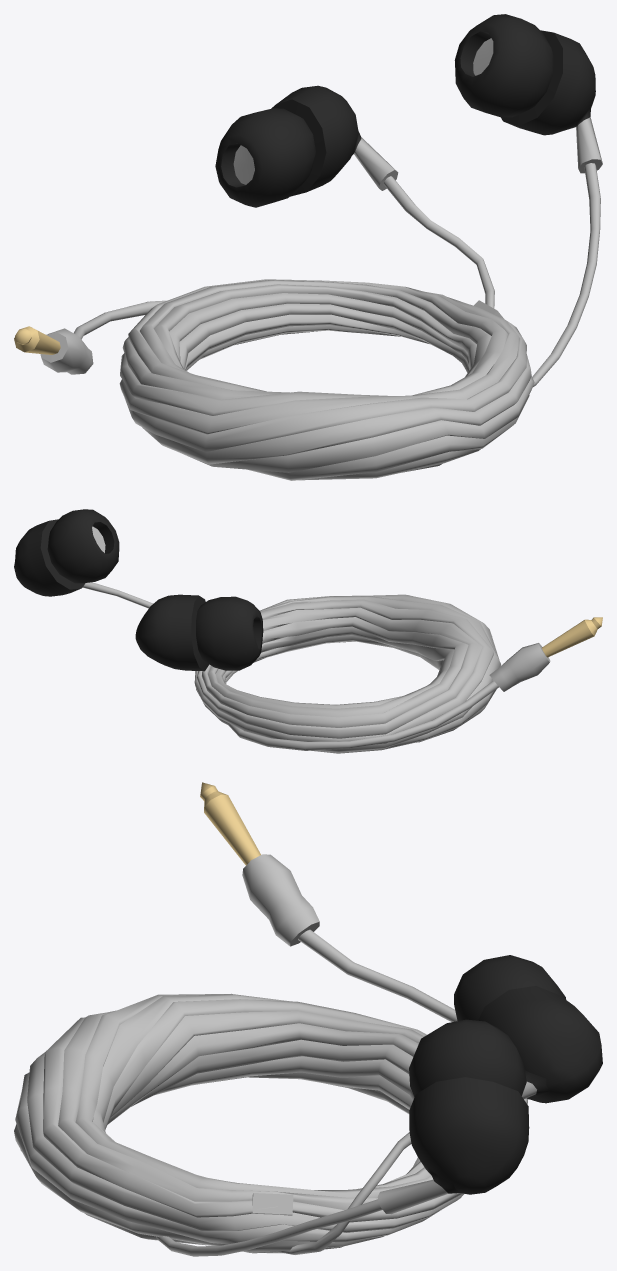
Rendered from earBuds.fbx.
3 renders of one model, top to bottom at view 1: azimuth 30°, elevation 25°; view 2: azimuth 150°, elevation 25°; view 3: azimuth 270°, elevation 25°, orthographic. The views are drawn at different scales.
Parts seen in each view (by area): view 1: buds; view 2: buds; view 3: buds.
Boxes of the visible parts, box(x1,y1,x2,y2) form: buds: box(14, 14, 602, 480); buds: box(14, 509, 602, 753); buds: box(14, 782, 602, 1256).
Size of the model in its own units: 0.0277 by 0.00989 by 0.018.
